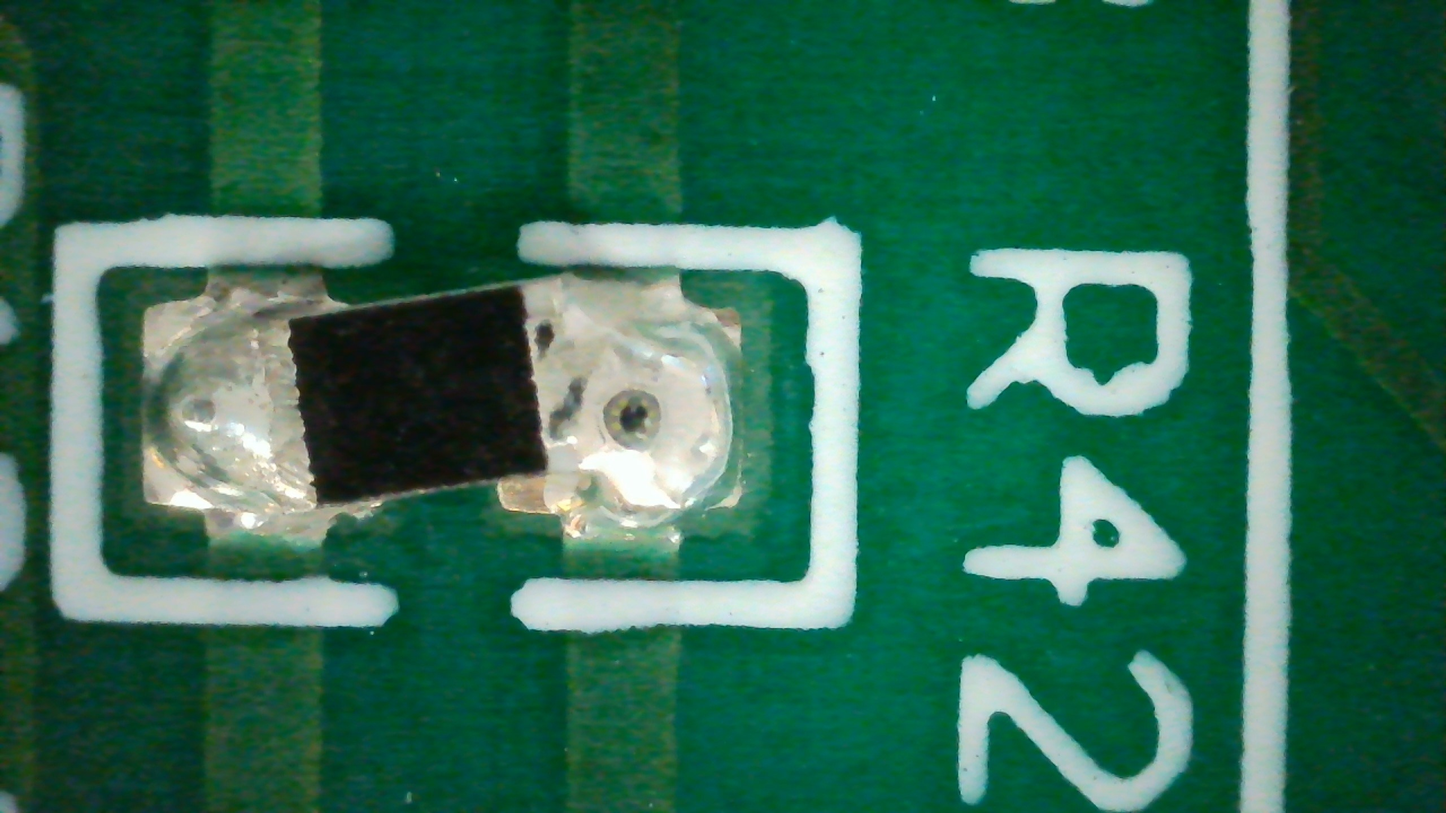NG: (141, 270, 741, 548)
